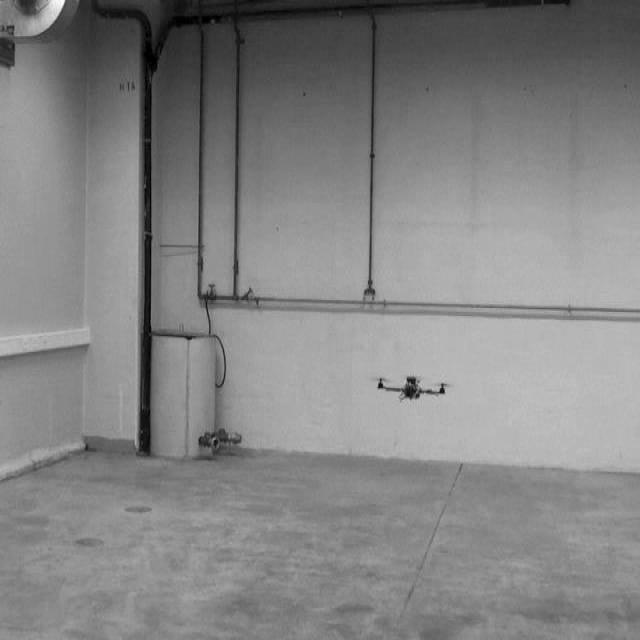drone: (375, 370, 452, 405)
